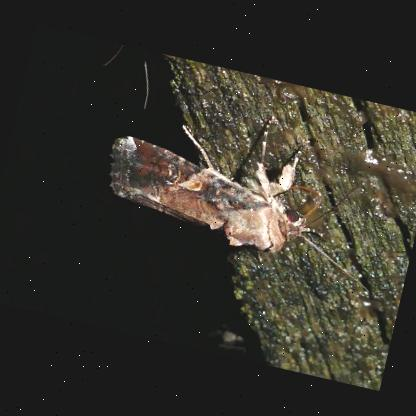Fall Armyworm Moth: (90, 84, 404, 296)
